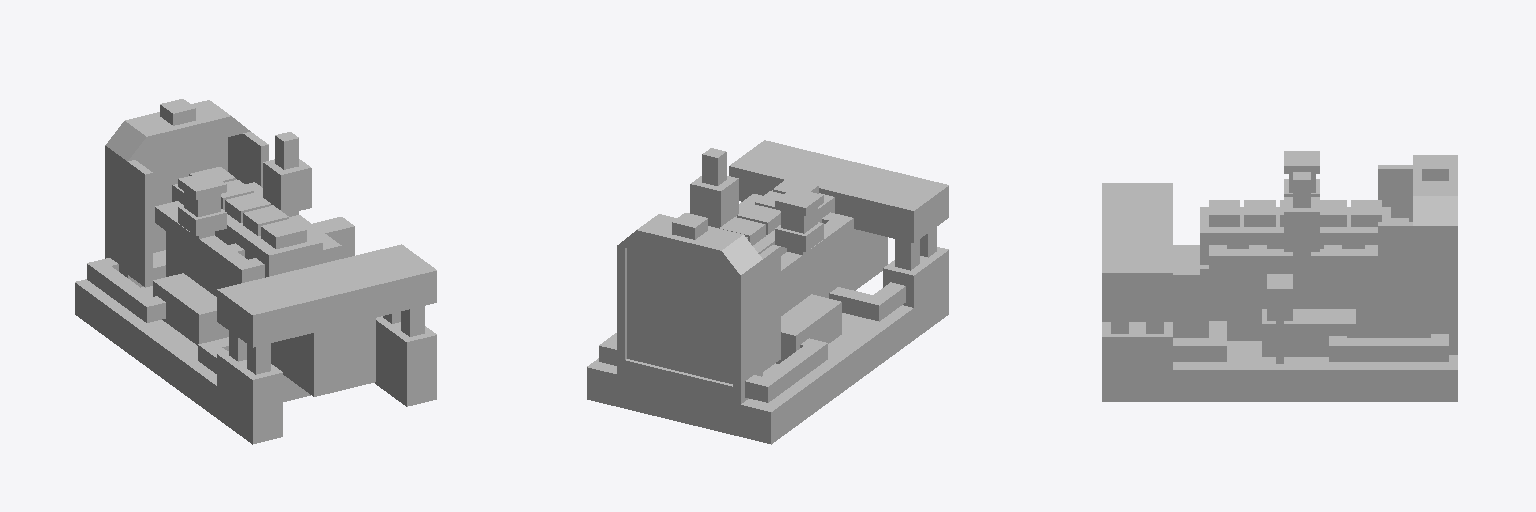
Rendered from dieselGenerator.obj.
3 renders of one model, left to right at view 1: azimuth 30°, elevation 25°; view 2: azimuth 150°, elevation 25°; view 3: azimuth 270°, elevation 25°, orthographic.
Parts seen in each view (by area): view 1: base; view 2: base; view 3: base.
Part boxes in pixels (bbox=[...]): base: bbox=[75, 99, 436, 444]; base: bbox=[587, 140, 948, 444]; base: bbox=[1102, 151, 1457, 401].
Size of the model in its own units: 3 by 3.13 by 5.